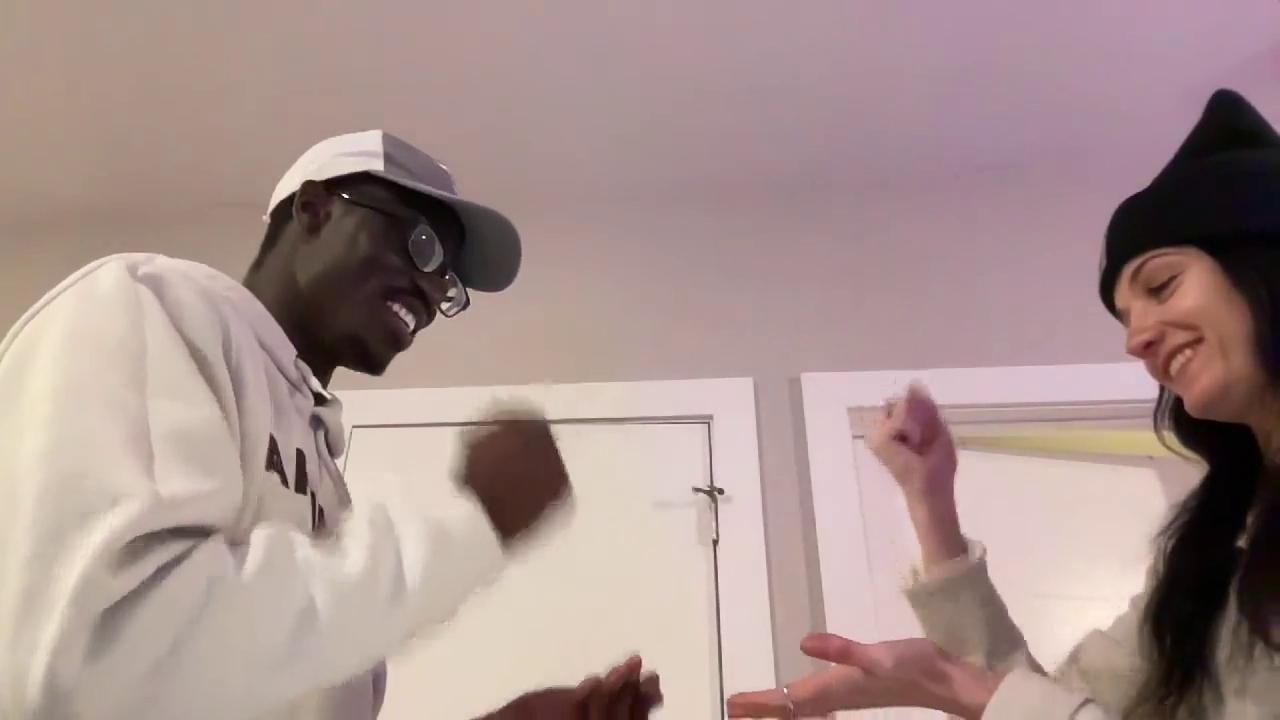Rock: (467, 405, 575, 538), (863, 385, 960, 498)
